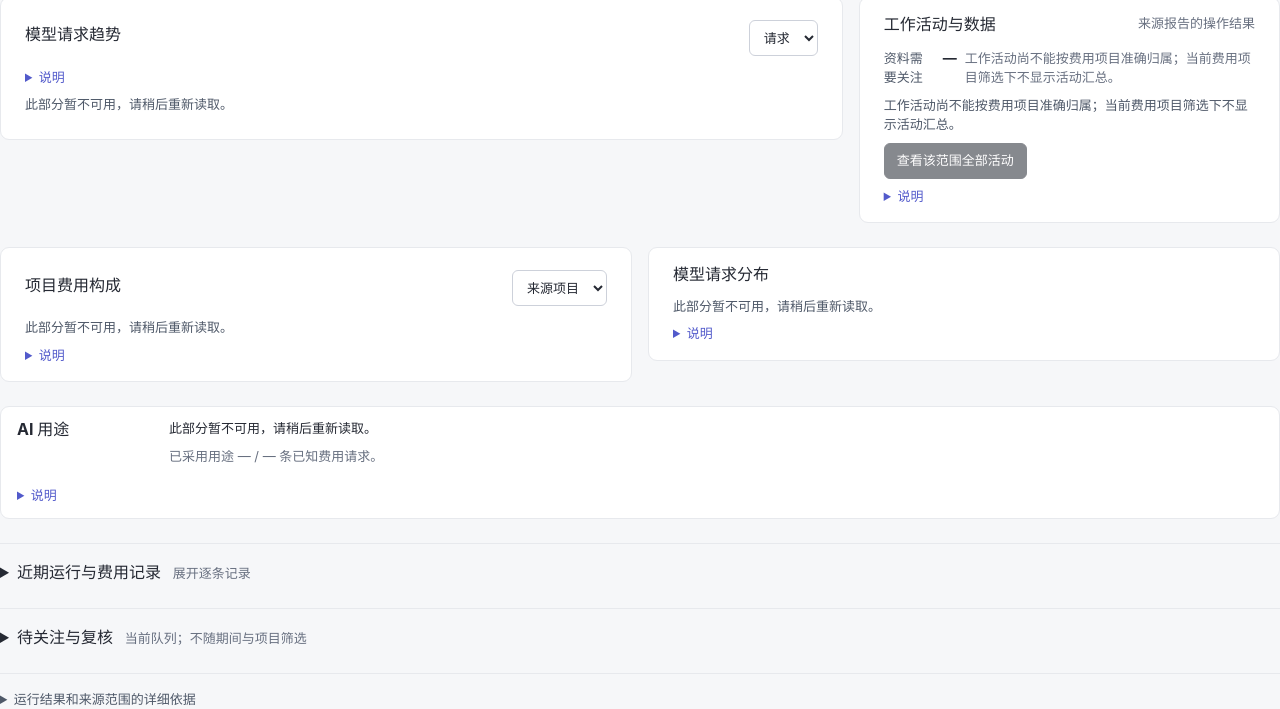
Scenario: overview comparison and recent requests › keeps runtime requests visible when the independent economic reading fails
(page scrolled)
Click the heading "近期运行与费用记录 展开逐条记录".
click(134, 572)  # box [17, 562, 251, 582]
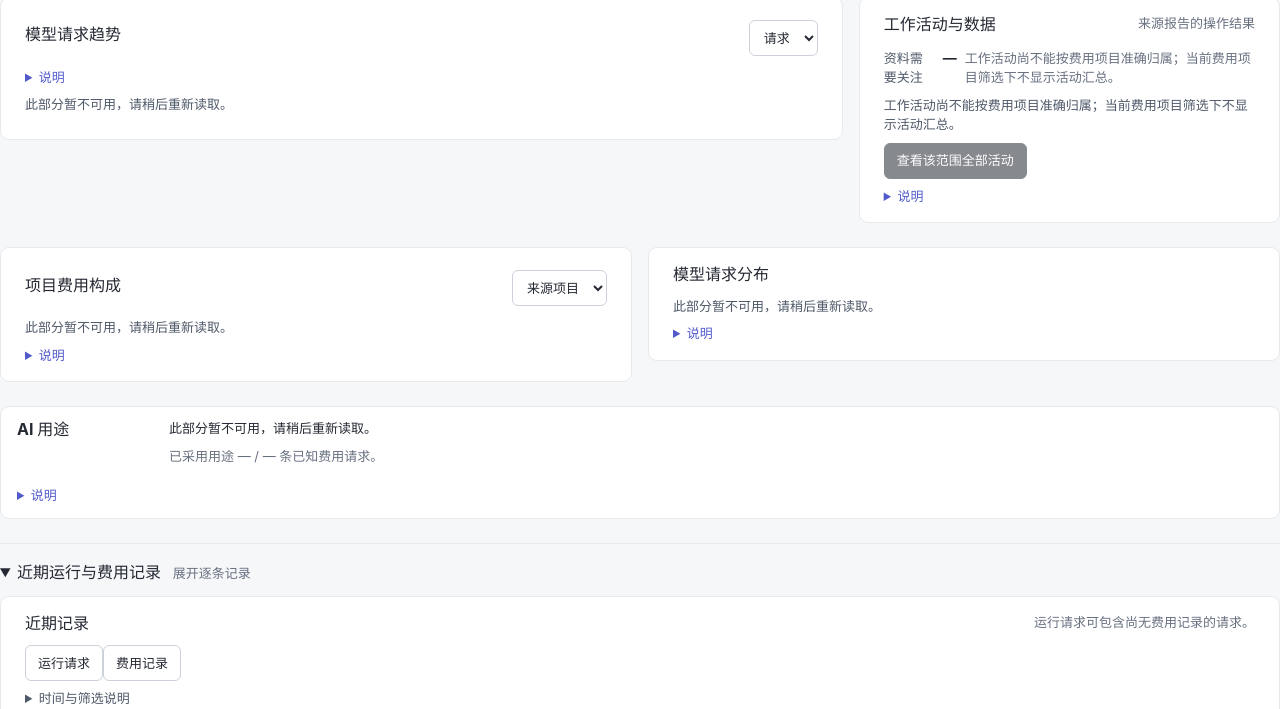
Click the tab "费用记录".
click(142, 663)  # box [103, 645, 181, 681]
(page scrolled)
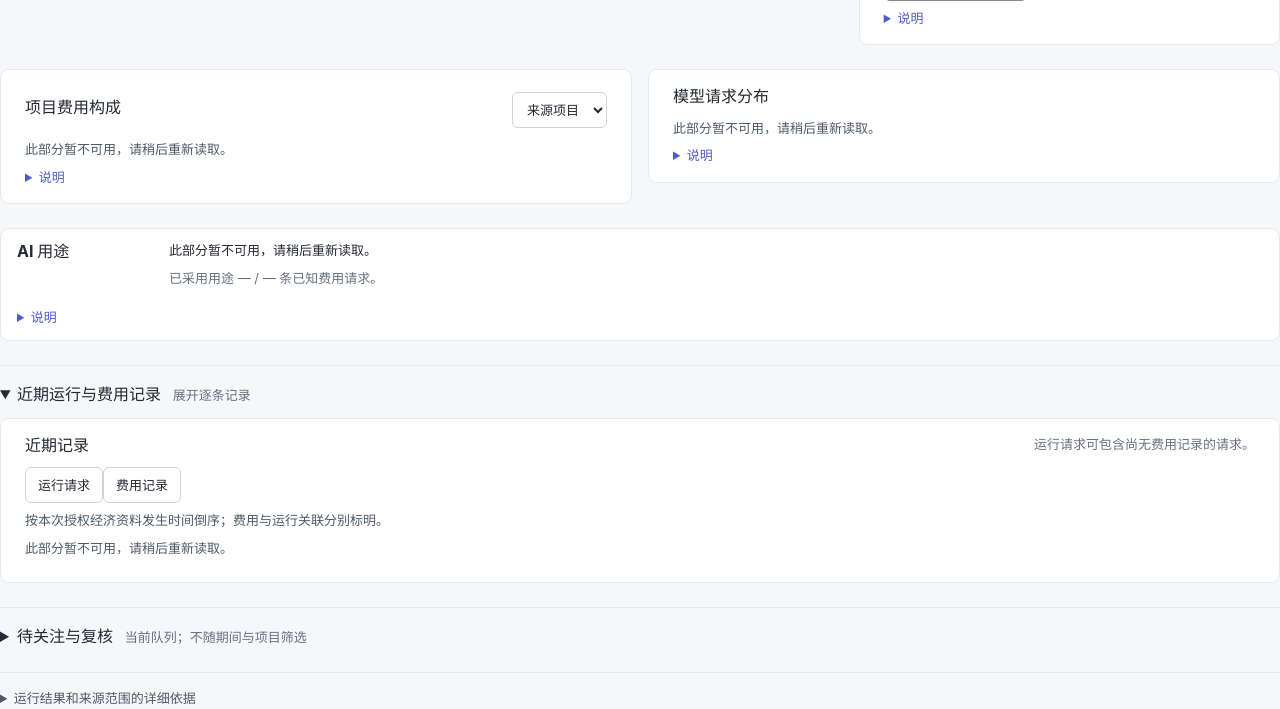
Now the text "此部分暂不可用，请稍后重新读取。" below "按本次授权经济资料发生时间倒序；费用与运行关联分别标明。" is shown, box [25, 540, 233, 556]
